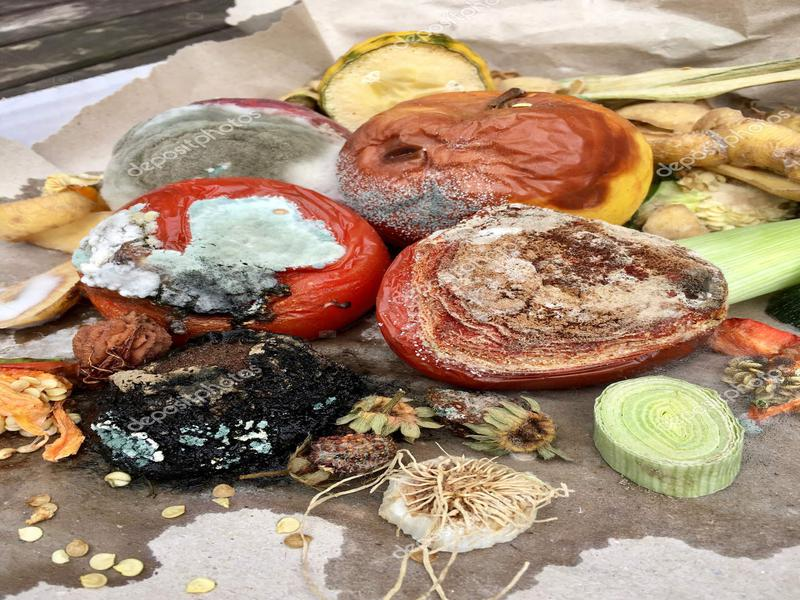vegetation: (1, 26, 800, 573)
